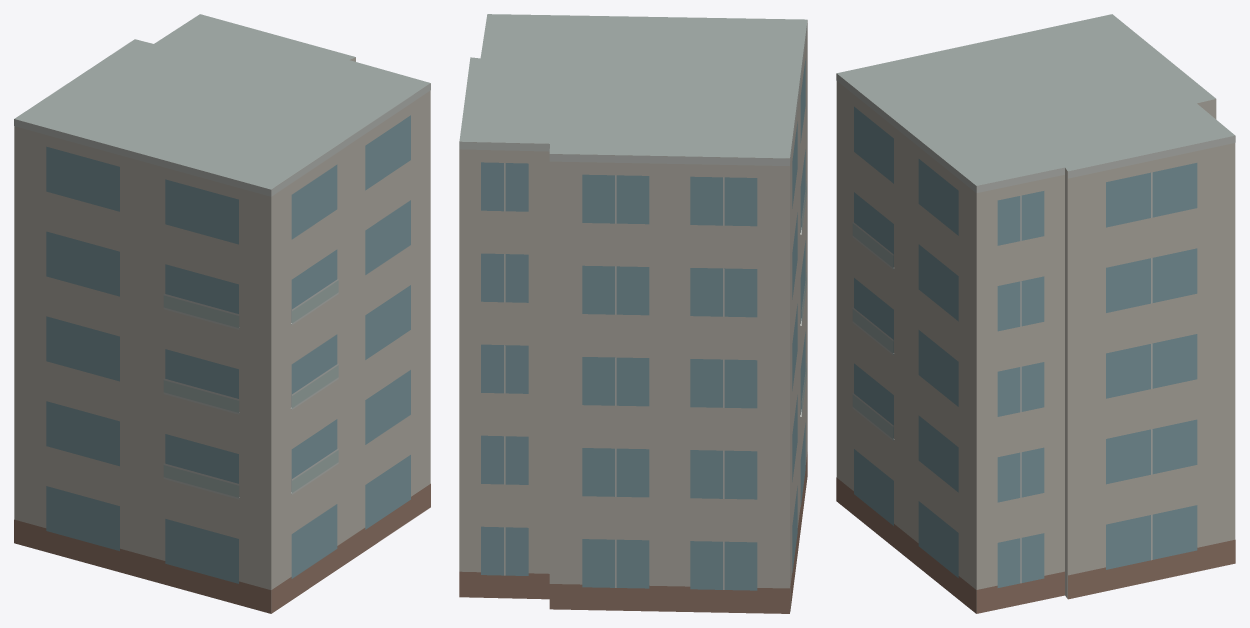
File: survey-upis-32986192.glb
3 views of the same model, side by side, from view 1: azimuth 30°, elevation 25°; view 2: azimuth 150°, elevation 25°; view 3: azimuth 270°, elevation 25° (orthographic). The views are drawn at different scales.
Visible parts, largest first — view 1: survey-upis-32986192.tmp; view 2: survey-upis-32986192.tmp; view 3: survey-upis-32986192.tmp.
Boxes of the visible parts, box(x1,y1,x2,y2) form: survey-upis-32986192.tmp: box(14, 14, 430, 613); survey-upis-32986192.tmp: box(459, 14, 807, 613); survey-upis-32986192.tmp: box(836, 14, 1235, 613).
Size of the model in its own units: 12.42 by 14.4 by 12.18.
